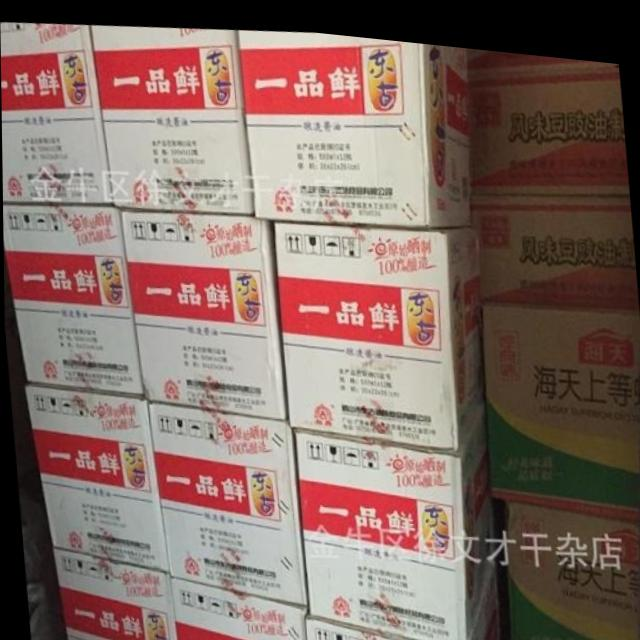box: (293, 393, 491, 638), (271, 213, 483, 440), (237, 28, 471, 217), (478, 291, 640, 510), (120, 205, 286, 413), (144, 399, 306, 599), (90, 24, 253, 206), (22, 382, 169, 565), (2, 205, 143, 394), (466, 38, 628, 186), (500, 487, 640, 640), (0, 25, 114, 202), (470, 181, 637, 293), (52, 541, 176, 640), (170, 567, 304, 640), (304, 600, 460, 640), (470, 507, 502, 640)
